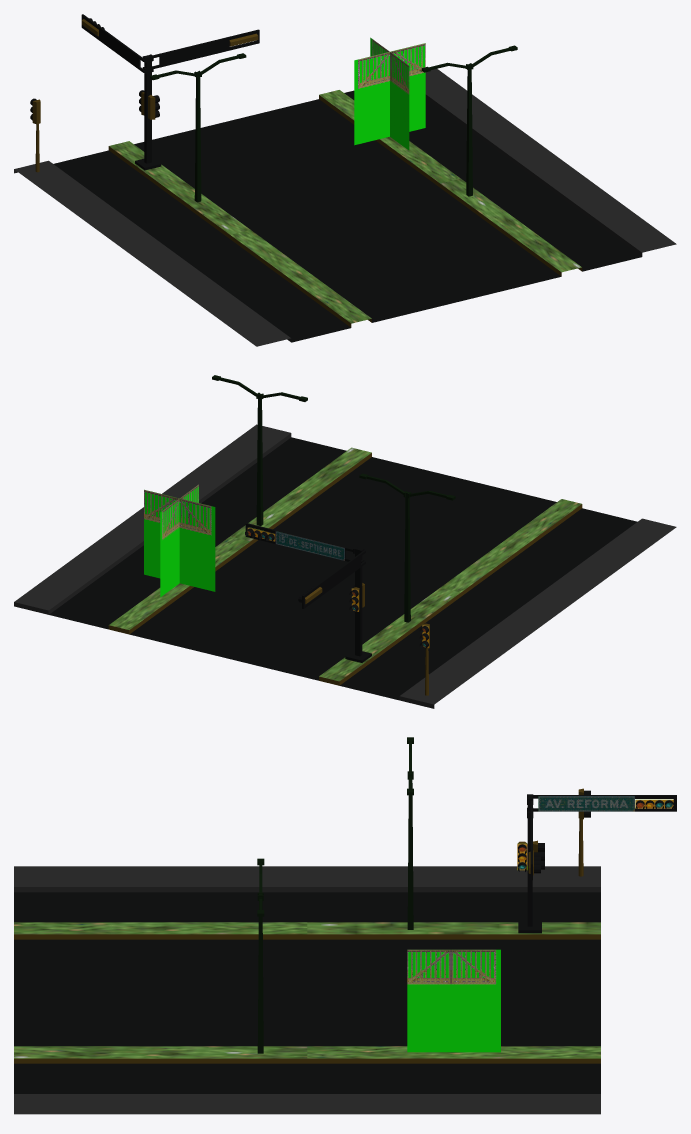
The model's file is 03_prekfc.obj.
3 views of the same model, one above another, from view 1: azimuth 30°, elevation 25°; view 2: azimuth 150°, elevation 25°; view 3: azimuth 270°, elevation 25° (orthographic). The views are drawn at different scales.
Parts seen in each view (by area): view 1: 03_prekfc_Plane.010; view 2: 03_prekfc_Plane.010; view 3: 03_prekfc_Plane.010.
Part boxes in pixels (x1,y1,x2,y2): 03_prekfc_Plane.010: [14, 14, 676, 346]; 03_prekfc_Plane.010: [14, 375, 676, 708]; 03_prekfc_Plane.010: [14, 737, 676, 1114].
Size of the model in its own units: 4.48 by 1.44 by 5.06.
